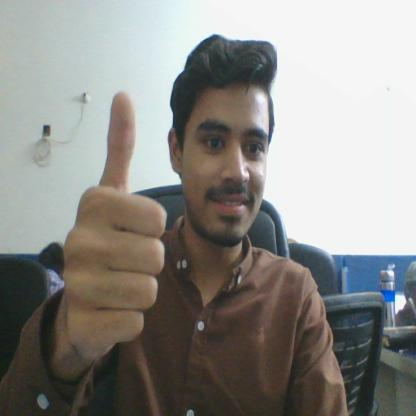thumbs-up: (64, 90, 168, 346)
